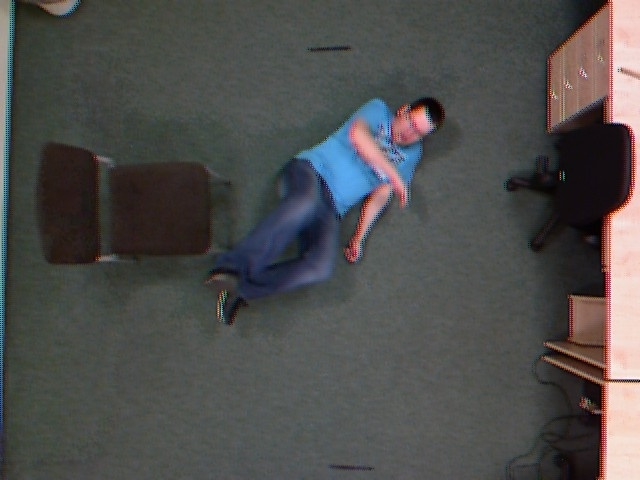fall: (202, 79, 454, 336)
